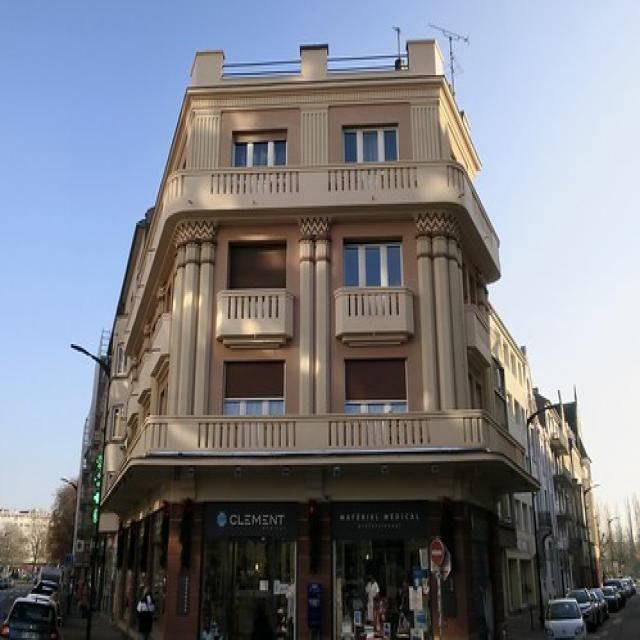Normal_building: (74, 32, 606, 631)
